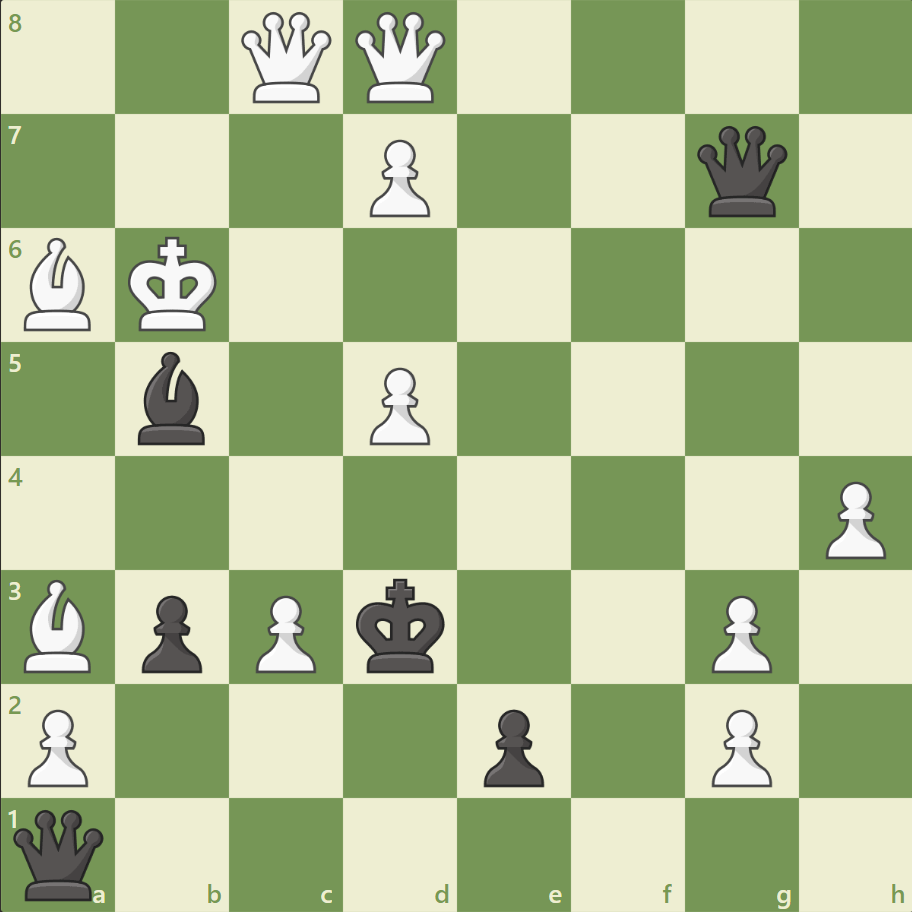B: (17, 233, 101, 336), (17, 574, 101, 676)
K: (124, 231, 224, 339)
P: (247, 586, 322, 677), (701, 586, 776, 677), (20, 700, 95, 791), (701, 700, 776, 791), (361, 132, 435, 223), (361, 359, 435, 450), (815, 473, 889, 564)
Q: (237, 9, 336, 108), (351, 9, 450, 108)
b: (131, 347, 215, 449)
k: (351, 571, 451, 679)
p: (133, 586, 208, 677), (474, 700, 549, 791)
q: (691, 122, 790, 222), (10, 804, 109, 903)
